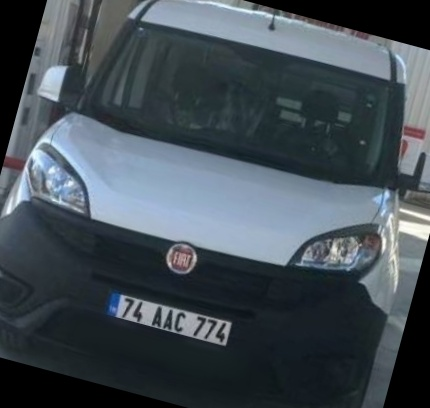plaka: (113, 291, 230, 347)
